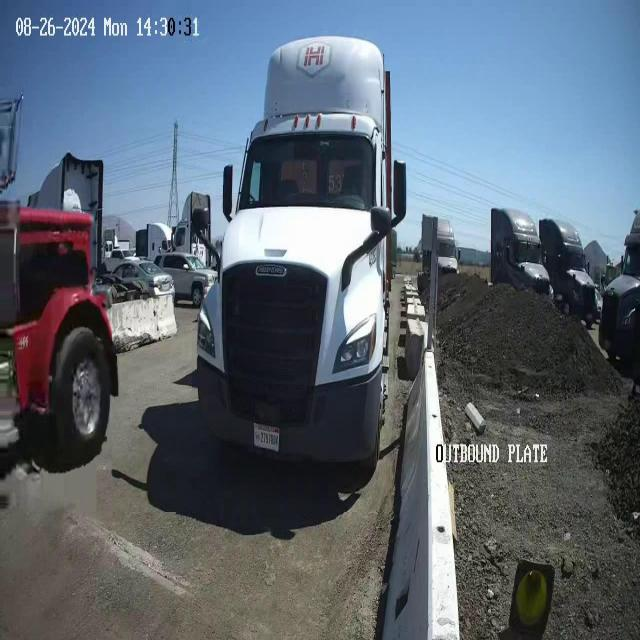TRUCK_IN: (193, 34, 407, 474)
